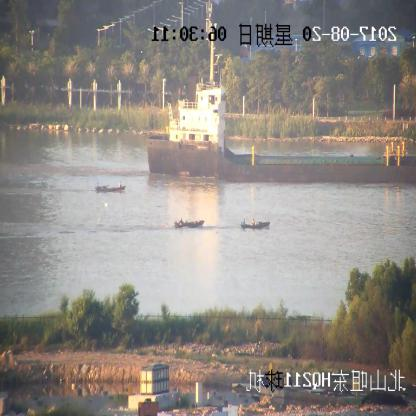Fishing Boat: (95, 182, 125, 194), (175, 218, 204, 229), (241, 219, 270, 230)
